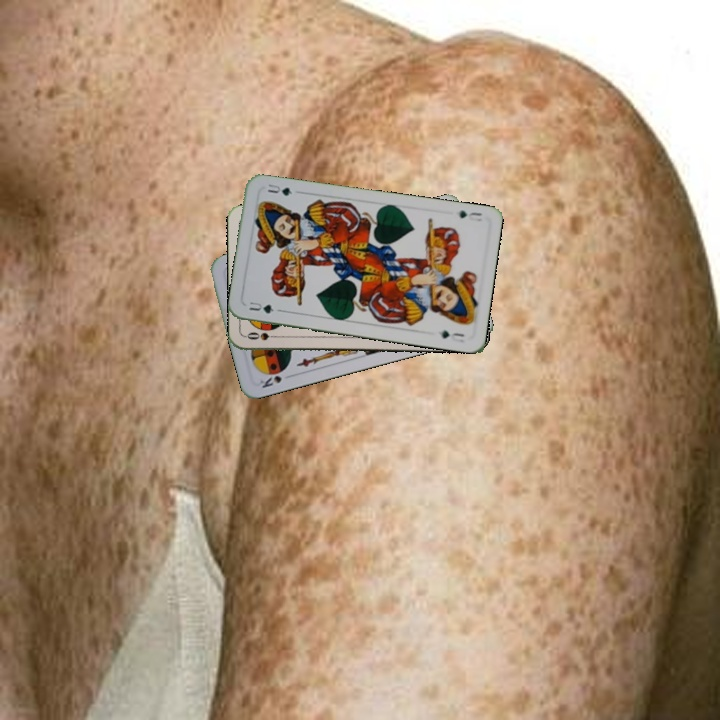GU: (245, 298, 283, 316), (455, 206, 485, 224)
SK: (255, 366, 287, 391)
SO: (243, 329, 284, 343)
